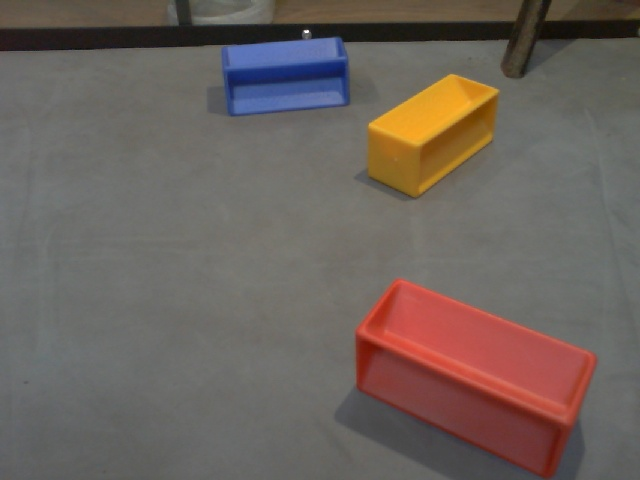BlueSample: (215, 39, 355, 119)
RedSample: (352, 268, 597, 479)
YellowSample: (365, 72, 502, 199)
